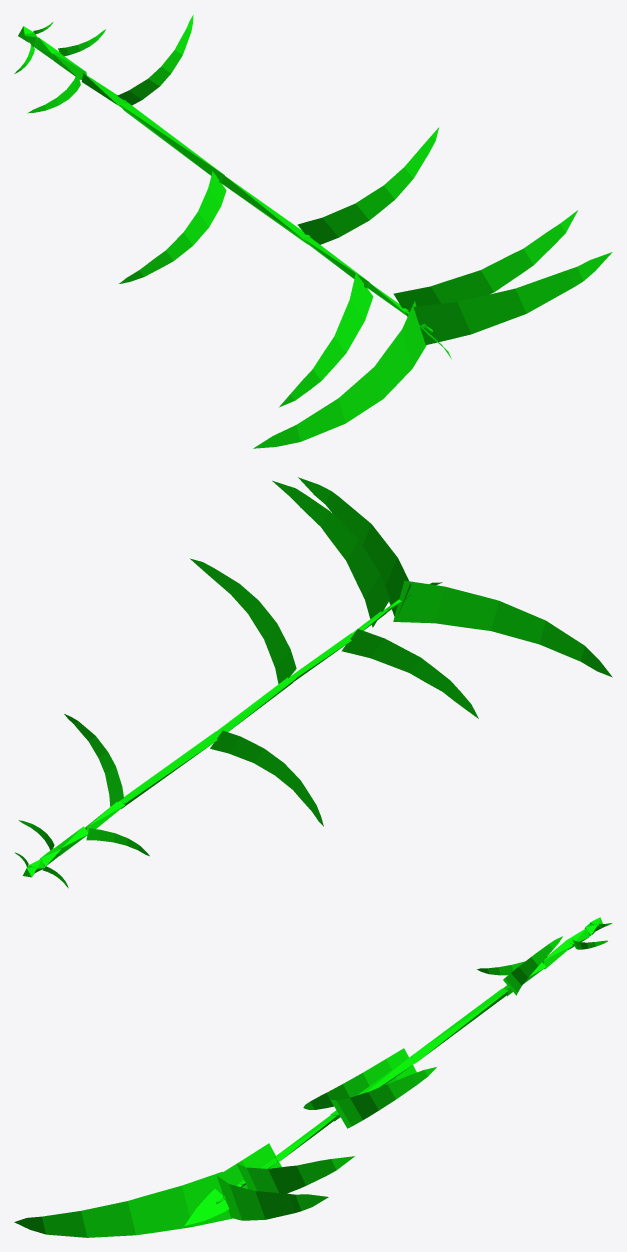
The model's file is usm_16_2.5D_2018-09-11_1.obj.
3 views of the same model, one above another, from view 1: azimuth 30°, elevation 25°; view 2: azimuth 150°, elevation 25°; view 3: azimuth 330°, elevation 25° (orthographic). The views are drawn at different scales.
Parts seen in each view (by area): view 1: vid_24, vid_22, vid_20, vid_16, vid_18, vid_14, vid_12, vid_13, vid_15; view 2: vid_22, vid_20, vid_24, vid_18, vid_16, vid_14, vid_12, vid_13, vid_15, vid_10; view 3: vid_22, vid_24, vid_20, vid_16, vid_14, vid_13, vid_18, vid_12, vid_26, vid_15, vid_17.
Part boxes in pixels (bbox=[...]): vid_24: bbox=[409, 252, 612, 344]; vid_22: bbox=[253, 301, 426, 448]; vid_20: bbox=[393, 210, 577, 316]; vid_16: bbox=[297, 127, 438, 244]; vid_18: bbox=[279, 273, 373, 407]; vid_14: bbox=[119, 171, 226, 283]; vid_12: bbox=[117, 14, 193, 105]; vid_13: bbox=[119, 102, 224, 182]; vid_15: bbox=[221, 175, 310, 244]; vid_22: bbox=[393, 580, 612, 677]; vid_20: bbox=[272, 480, 390, 627]; vid_24: bbox=[298, 477, 411, 616]; vid_18: bbox=[341, 629, 478, 718]; vid_16: bbox=[190, 558, 296, 683]; vid_14: bbox=[210, 730, 323, 826]; vid_12: bbox=[64, 714, 123, 806]; vid_13: bbox=[119, 731, 218, 808]; vid_15: bbox=[216, 676, 296, 736]; vid_10: bbox=[86, 828, 149, 856]; vid_22: bbox=[14, 1171, 232, 1237]; vid_24: bbox=[217, 1176, 328, 1220]; vid_20: bbox=[236, 1156, 354, 1193]; vid_16: bbox=[330, 1067, 436, 1128]; vid_14: bbox=[303, 1048, 416, 1109]; vid_13: bbox=[411, 988, 508, 1063]; vid_18: bbox=[223, 1143, 281, 1188]; vid_12: bbox=[503, 936, 562, 995]; vid_26: bbox=[184, 1189, 229, 1225]; vid_15: bbox=[330, 1056, 414, 1121]; vid_17: bbox=[274, 1115, 336, 1162].
Bounding box in the file's own units: 120 × 55.81 × 263.
